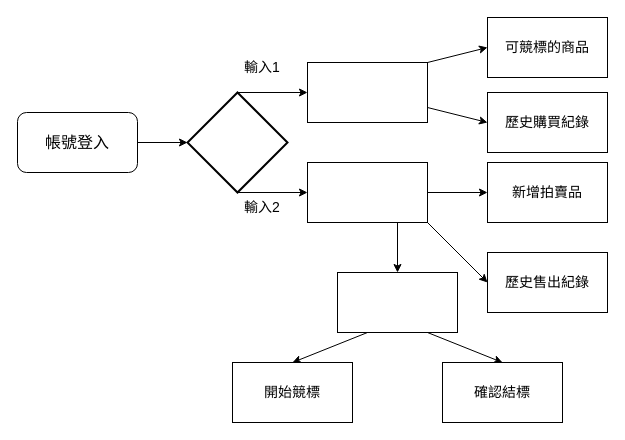
This 625x440 diagram has some shape labels left out. Each missing label, with the centre of its shape:
"拍賣品清單" belongs at pixel 397 302.
"輸入帳號為1 or 2" belongs at pixel 237 142.
"顯示買家頁面" belongs at pixel 367 92.
"顯示賣家頁面" belongs at pixel 367 192.
